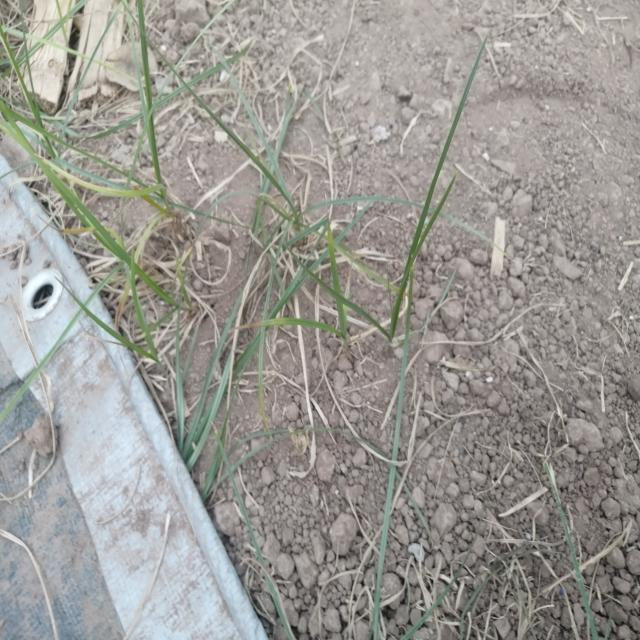sedge: (260, 64, 527, 429), (12, 109, 225, 399)
